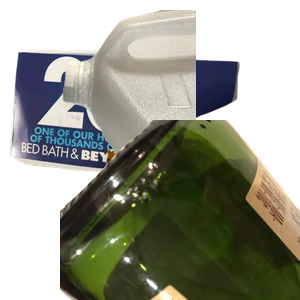glass: (60, 120, 300, 300)
paper: (10, 41, 242, 207)
plastic: (60, 10, 300, 190)
trash: (103, 147, 300, 300)
